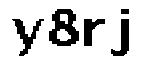8: (46, 8, 79, 49)
j: (108, 7, 136, 60)
r: (81, 16, 107, 48)
y: (9, 15, 43, 60)
